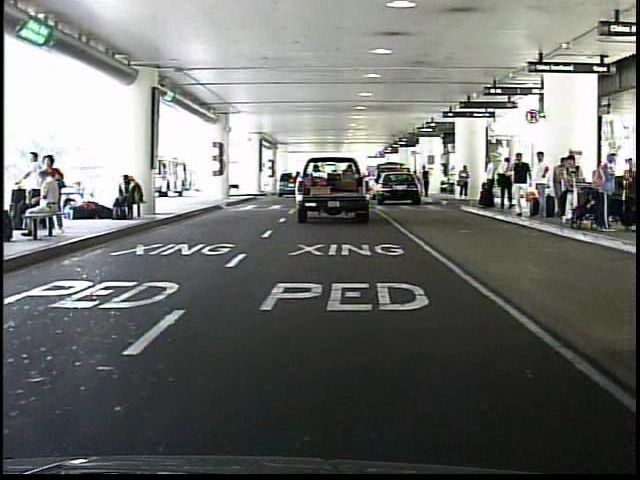person: (507, 151, 531, 223), (532, 148, 555, 223), (478, 152, 500, 214), (457, 162, 473, 203), (421, 163, 433, 200), (414, 168, 423, 200)
